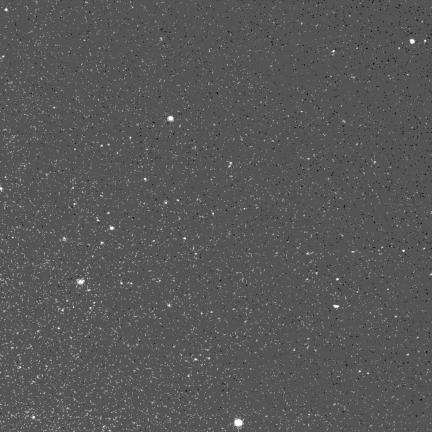blob: (234, 419, 243, 426), (77, 279, 84, 285), (410, 39, 415, 44), (168, 116, 173, 121), (110, 226, 114, 230)
